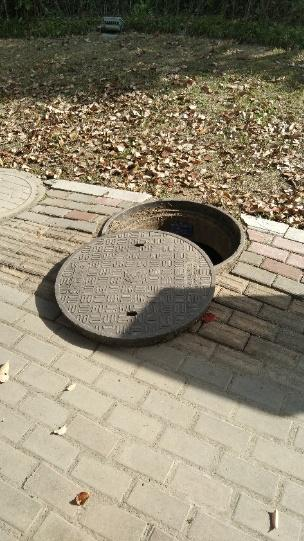wellcover: (50, 184, 256, 352)
